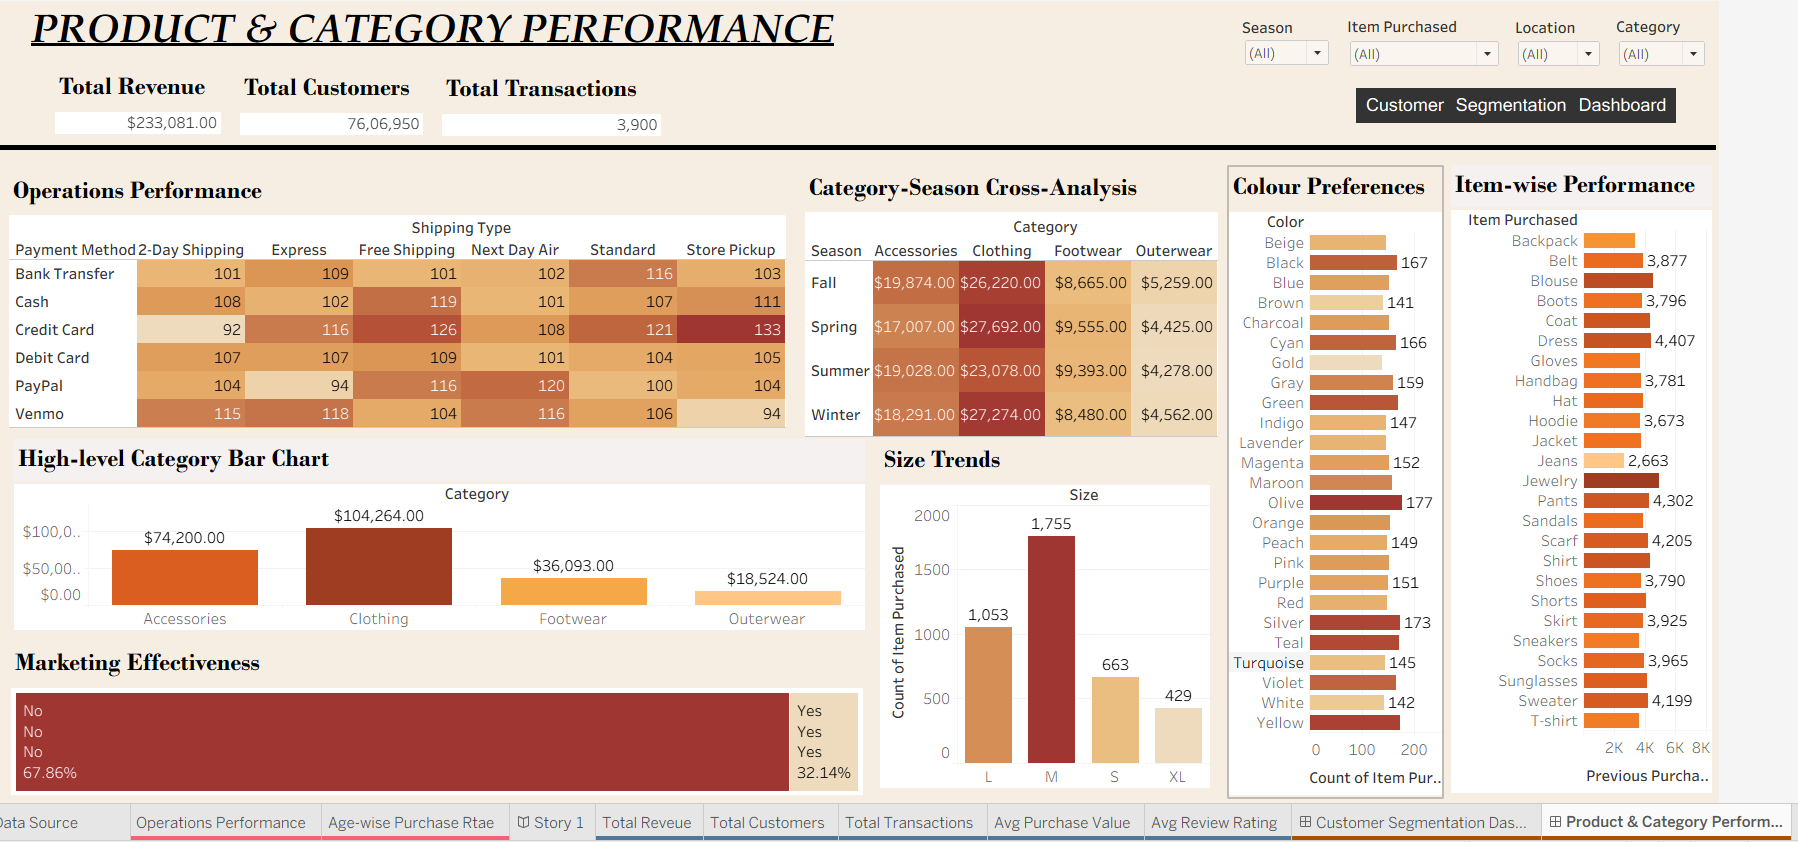

What the dashboard file says about the page in this screenshot:
{"tool":"tableau","page":{"name":"Product & Category Performance","canvas":[1000,1000],"units":"permille","ordinal":1},"visuals":[{"type":"text","box":[16.9,7.5,477.9,56.1]},{"type":"filter","title":"Item-wise performance","param":"[federated.1p8sqk91qwhg50152f4av16mblpr].[none:Item Purchased:nk]","box":[783.7,18.7,90.1,73.6]},{"type":"filter","title":"Category Bar Chart","param":"[federated.1p8sqk91qwhg50152f4av16mblpr].[none:Category:nk]","box":[940.1,18.7,53.5,72.3]},{"type":"filter","title":"Category Bar Chart","param":"[federated.1p8sqk91qwhg50152f4av16mblpr].[none:Season:nk]","box":[722.7,19.9,52.3,61.1]},{"type":"filter","title":"Category Bar Chart","param":"[federated.1p8sqk91qwhg50152f4av16mblpr].[none:Location:nk]","box":[881.4,19.9,51.2,64.8]},{"type":"worksheet","title":"Total Reveue","mark":"Automatic","box":[32.6,82.3,96.5,84.8]},{"type":"worksheet","title":"Total Customers","mark":"Text","box":[140.1,83.5,106.4,87.3]},{"type":"worksheet","title":"Total Transactions","mark":"Automatic","box":[257.6,84.8,127.3,83.5]},{"type":"dashboard-object","box":[789,108.5,186.1,43.6]},{"type":"worksheet","title":"Item-wise performance","mark":"Automatic","rows":["Item Purchased"],"cols":["Previous Purchases"],"box":[844.2,204.5,151.7,793]},{"type":"worksheet","title":"Color preferences","mark":"Automatic","rows":["Color"],"cols":["Item Purchased"],"box":[715.1,207,123.8,785.5]},{"type":"worksheet","title":"Category-season cross analysis","mark":"Square","rows":["Season"],"cols":["Category"],"box":[468.6,208.2,241.3,339.2]},{"type":"worksheet","title":"Operations Performance","mark":"Square","rows":["Payment Method"],"cols":["Shipping Type"],"box":[5.8,212,455.2,321.7]},{"type":"worksheet","title":"Category Bar Chart","mark":"Automatic","rows":["Purchase Amount (USD)"],"cols":["Category"],"box":[8.7,546.1,494.8,238.2]},{"type":"worksheet","title":"Size trends","mark":"Automatic","rows":["Item Purchased"],"cols":["Size"],"box":[512.2,547.4,191.9,433.9]},{"type":"worksheet","title":"Marketing Effectiveness","mark":"Automatic","box":[7,800.5,497.1,189.5]}]}

Visuals, with their boxes on the dashboard's canvas, which has no fixed pixel size, in thousandths of its width and height (x1, y1, x2, y2). These are canvas units, not pixel positions in the 1798x842 screenshot, which may show the page scaled, cropped or inside an application window:
text: locate(17, 8, 495, 64)
"Item-wise performance" filter: locate(784, 19, 874, 92)
"Category Bar Chart" filter: locate(940, 19, 994, 91)
"Category Bar Chart" filter: locate(723, 20, 775, 81)
"Category Bar Chart" filter: locate(881, 20, 933, 85)
"Total Reveue" worksheet: locate(33, 82, 129, 167)
"Total Customers" worksheet (Text marks): locate(140, 84, 246, 171)
"Total Transactions" worksheet: locate(258, 85, 385, 168)
dashboard-object: locate(789, 108, 975, 152)
"Item-wise performance" worksheet: locate(844, 204, 996, 998)
"Color preferences" worksheet: locate(715, 207, 839, 992)
"Category-season cross analysis" worksheet (Square marks): locate(469, 208, 710, 547)
"Operations Performance" worksheet (Square marks): locate(6, 212, 461, 534)
"Category Bar Chart" worksheet: locate(9, 546, 504, 784)
"Size trends" worksheet: locate(512, 547, 704, 981)
"Marketing Effectiveness" worksheet: locate(7, 800, 504, 990)
